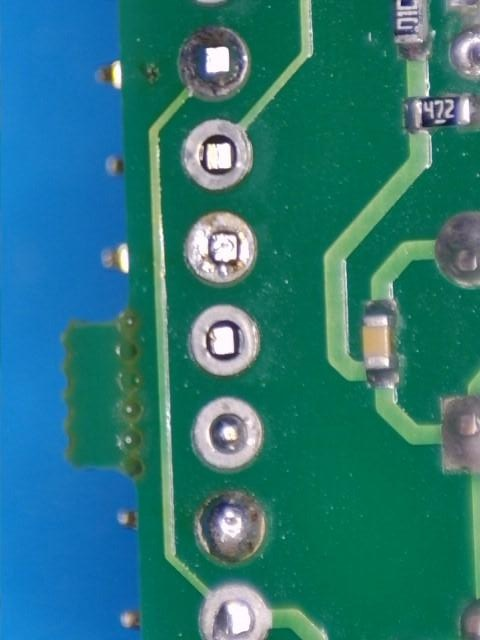pcb_defect: (194, 399, 261, 469), (198, 493, 264, 563), (201, 588, 268, 640)
